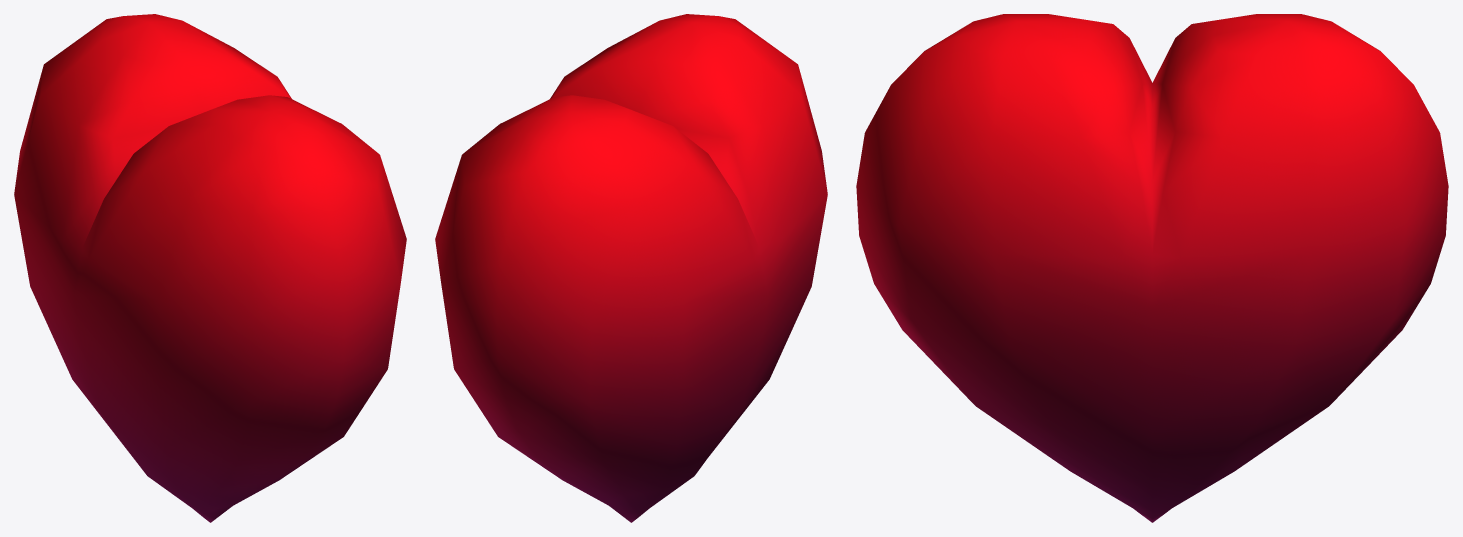
File: Heart.fbx
The picture shows the model from 3 angles, left to right: view 1: azimuth 30°, elevation 25°; view 2: azimuth 150°, elevation 25°; view 3: azimuth 270°, elevation 25°; orthographic projection. The views are drawn at different scales.
Visible parts, largest first — view 1: Heart; view 2: Heart; view 3: Heart.
Part boxes in pixels (x1,y1,x2,y2): Heart: (14, 14, 406, 522); Heart: (435, 14, 827, 522); Heart: (856, 14, 1448, 522).
Bounding box in the file's own units: 73.22 × 117 × 125.
